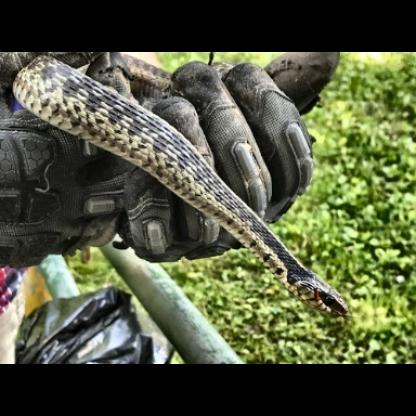Snake: (258, 236, 356, 324)
